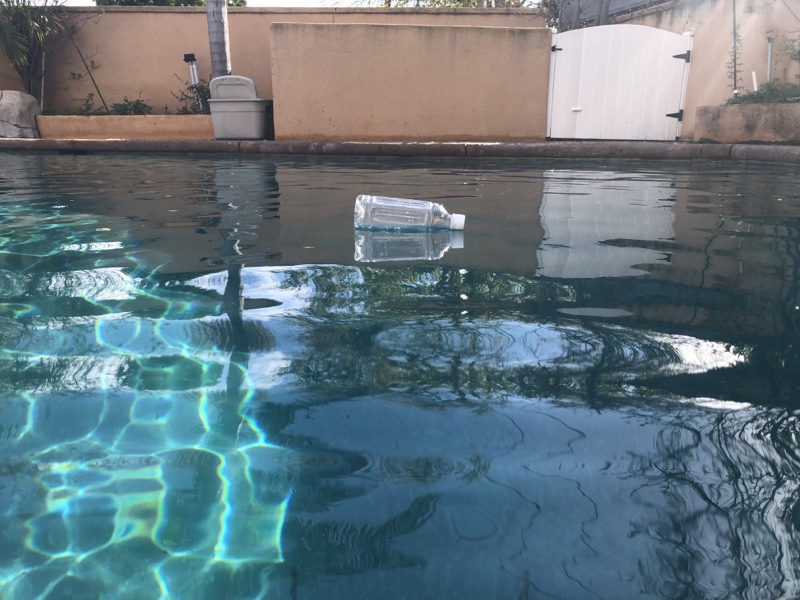Plastic Bottle: (351, 187, 465, 239)
